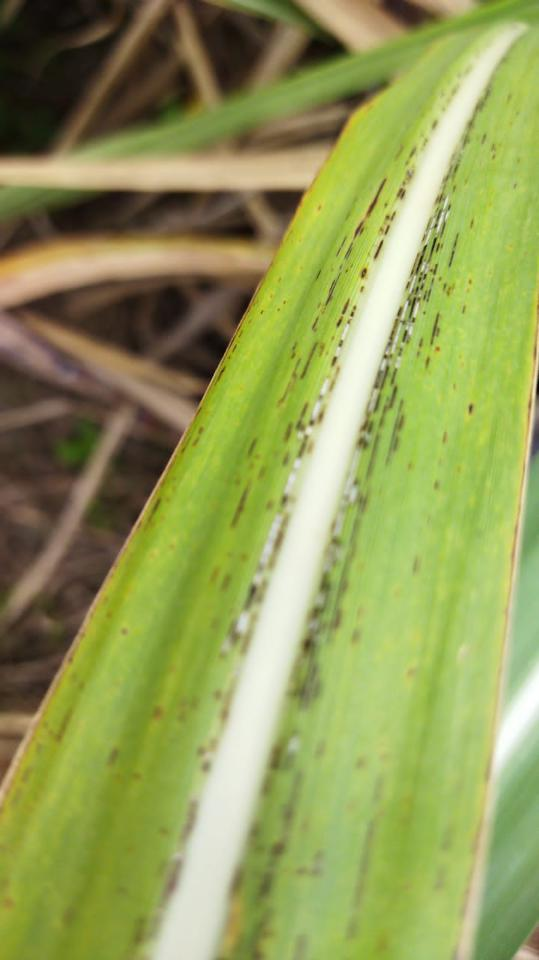Rust: (121, 62, 477, 959), (217, 54, 508, 959), (0, 193, 332, 820), (343, 817, 384, 943), (294, 841, 332, 878), (458, 276, 475, 316), (404, 553, 427, 579), (349, 627, 365, 648), (432, 478, 445, 494), (440, 431, 450, 447), (467, 402, 477, 417)
